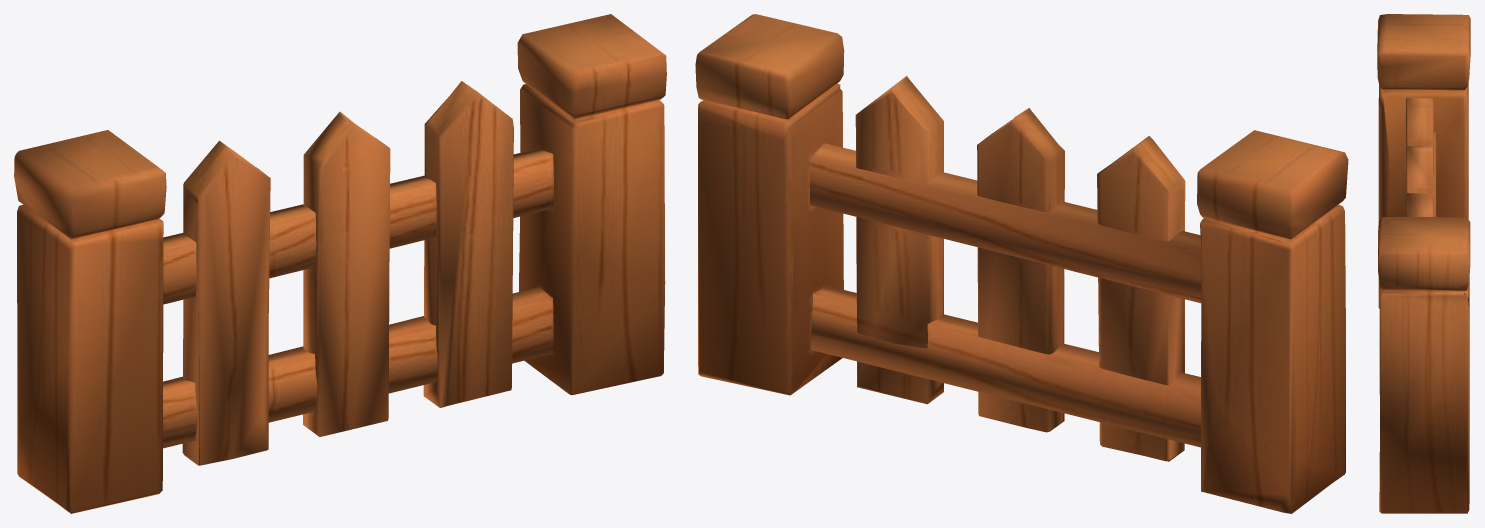
Rendered from fence_low_3.glb.
3 views of the same model, side by side, from view 1: azimuth 30°, elevation 25°; view 2: azimuth 150°, elevation 25°; view 3: azimuth 270°, elevation 25° (orthographic). The views are drawn at different scales.
Visible parts, largest first — view 1: ЦІЛЬ; view 2: ЦІЛЬ; view 3: ЦІЛЬ.
Boxes of the visible parts, box(x1,y1,x2,y2) form: ЦІЛЬ: box(14, 14, 666, 513); ЦІЛЬ: box(695, 14, 1348, 513); ЦІЛЬ: box(1377, 14, 1470, 513).
Size of the model in its own units: 0.9502 by 0.5037 by 0.1595.
1 material, 1 textured.
